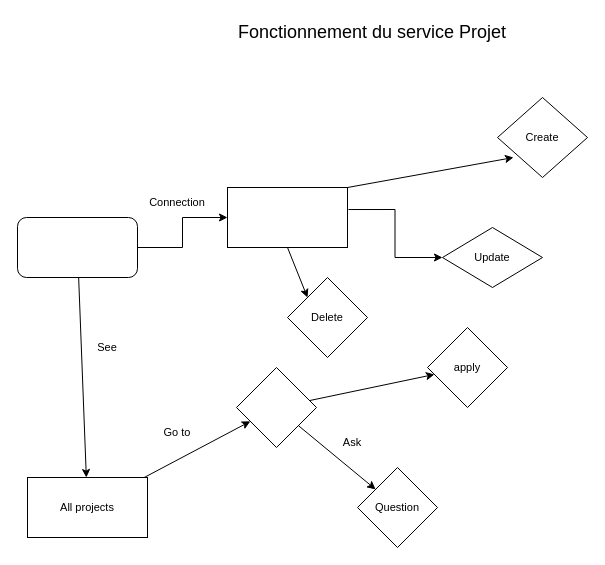
Some shapes in this 605 by 565 pixel diagram are drawn without their labels. Here are the shapes that lost their labels. From the top down, the centre of each, then its label:
At point 287,217: "Manage project".
At point 77,247: "User".
At point 276,407: "Detail".
